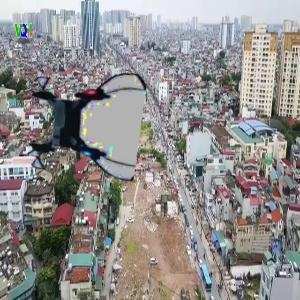drone: (24, 66, 142, 184)
